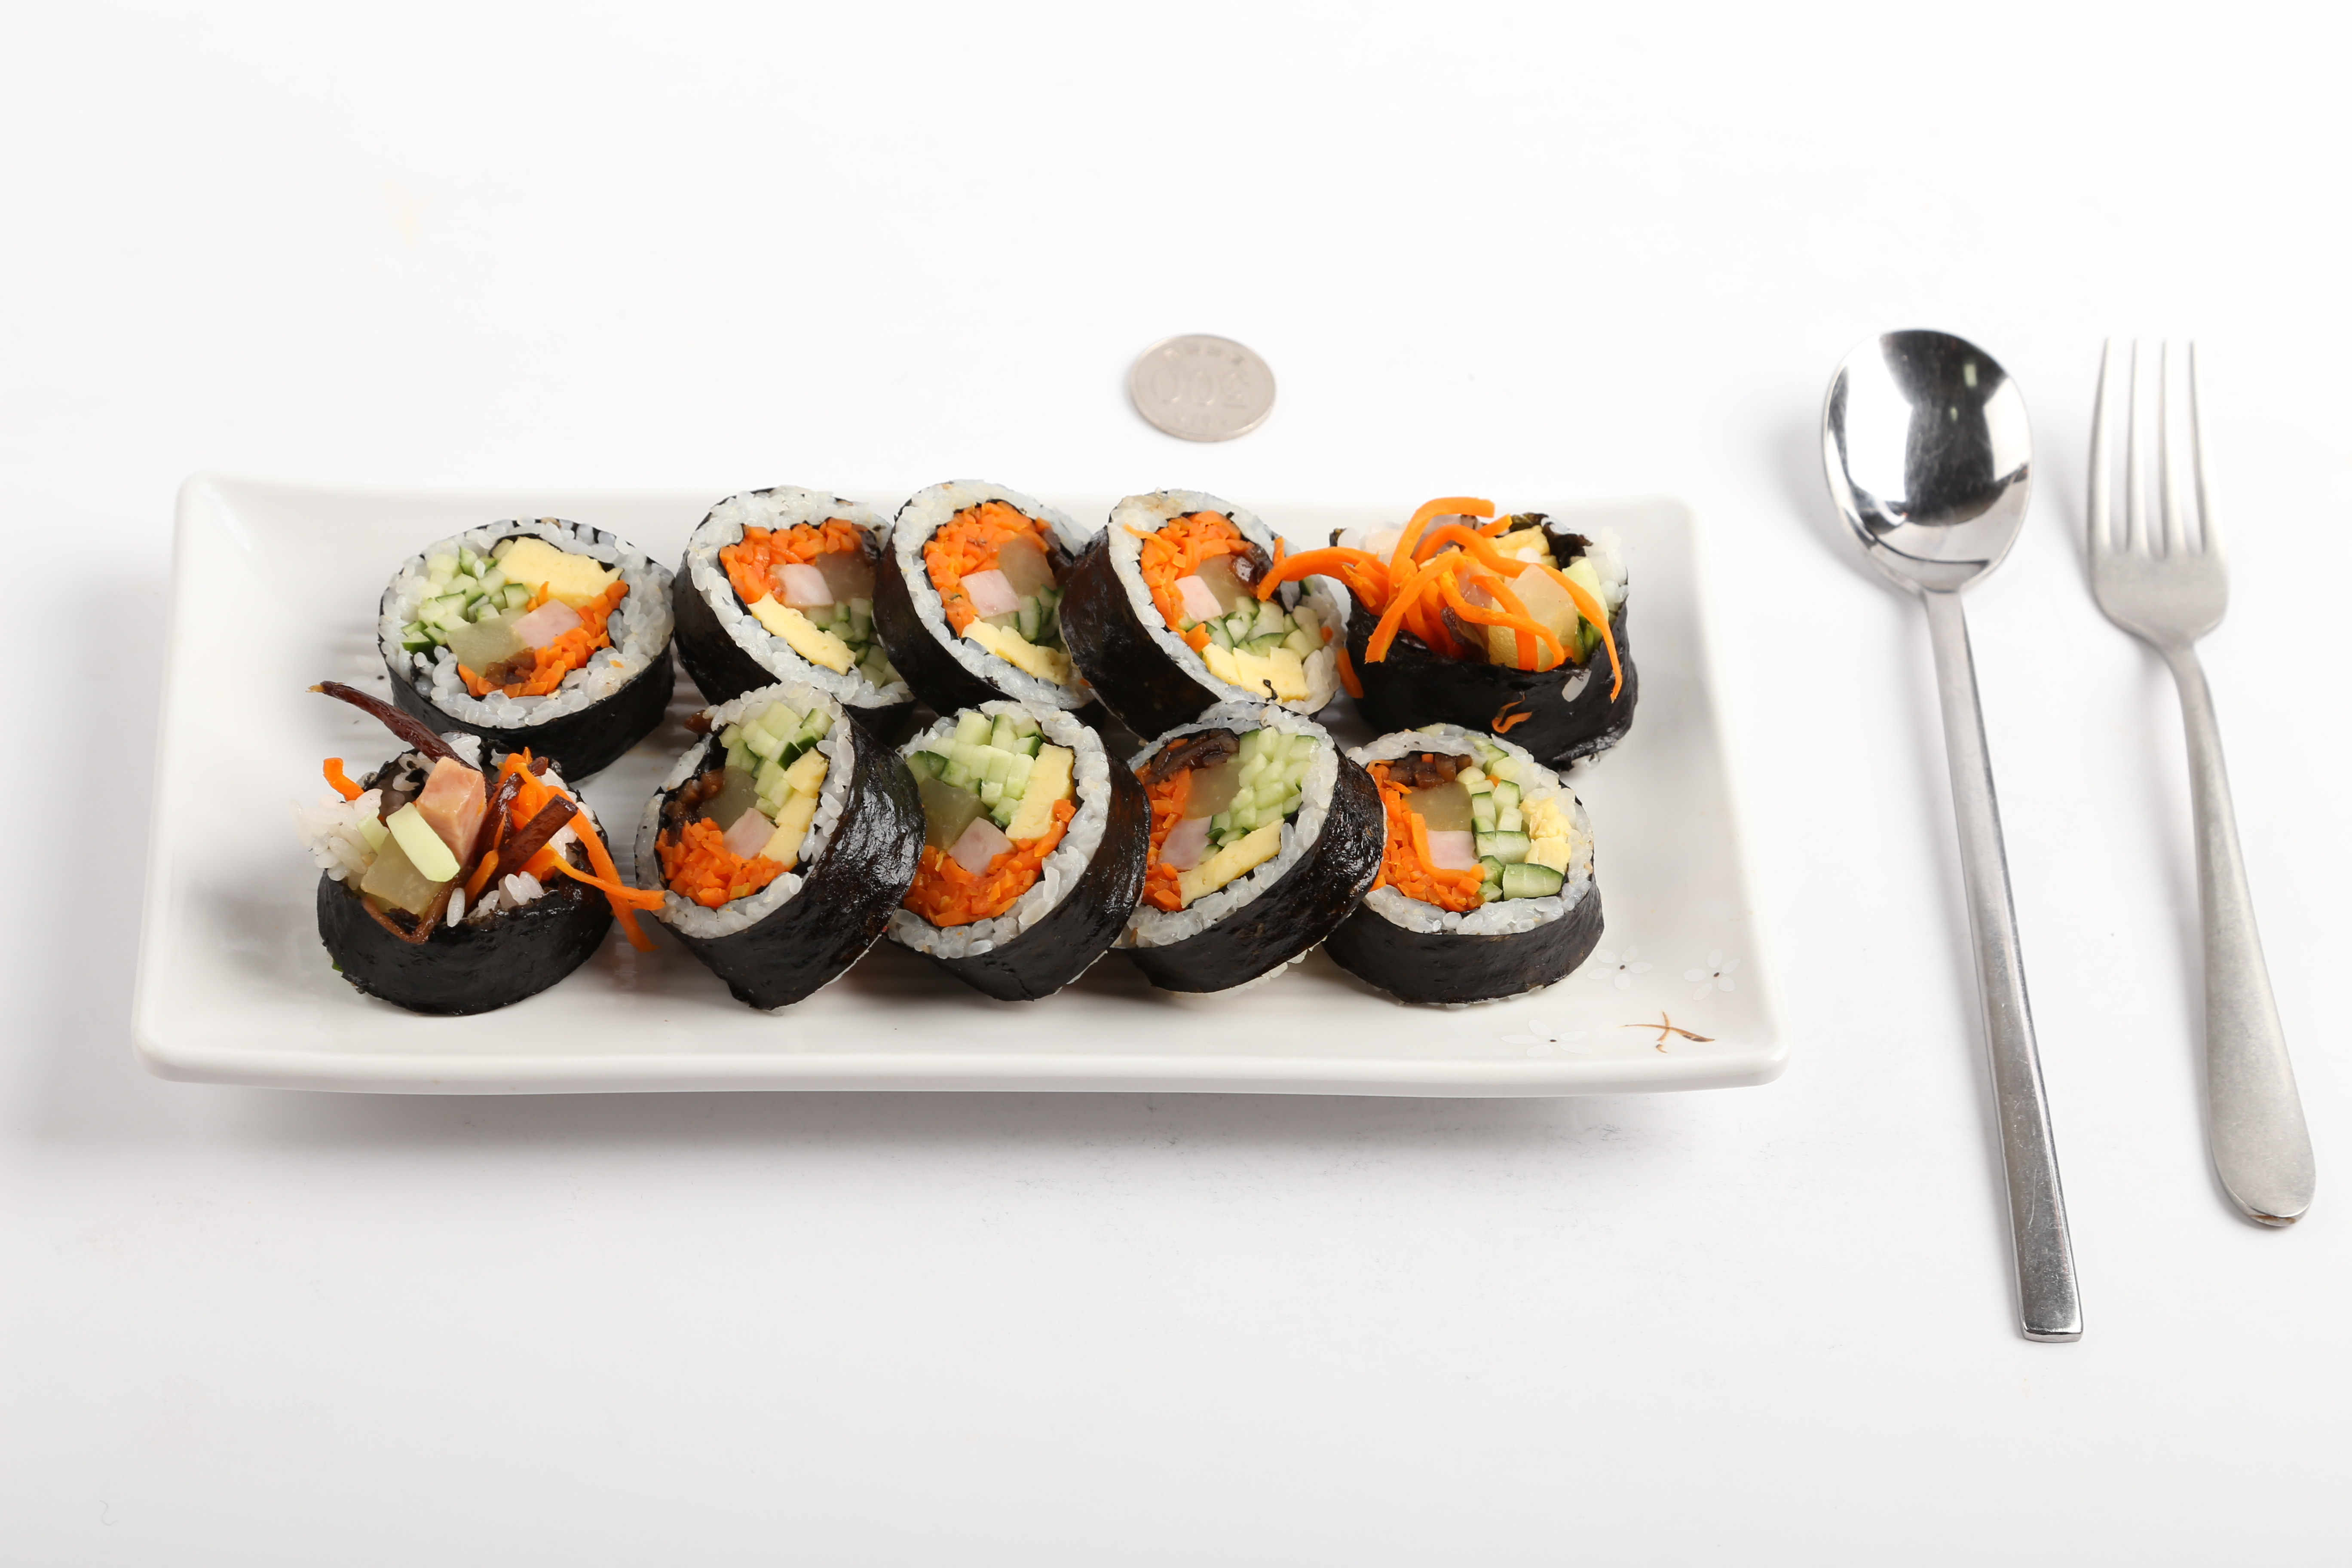dish: (154, 462, 1787, 1099)
ref_coin: (1122, 327, 1281, 446)
ref_fork: (2077, 336, 2235, 691)
ref_spoon: (1816, 318, 2039, 639)
김밥: (310, 481, 1645, 1020)
